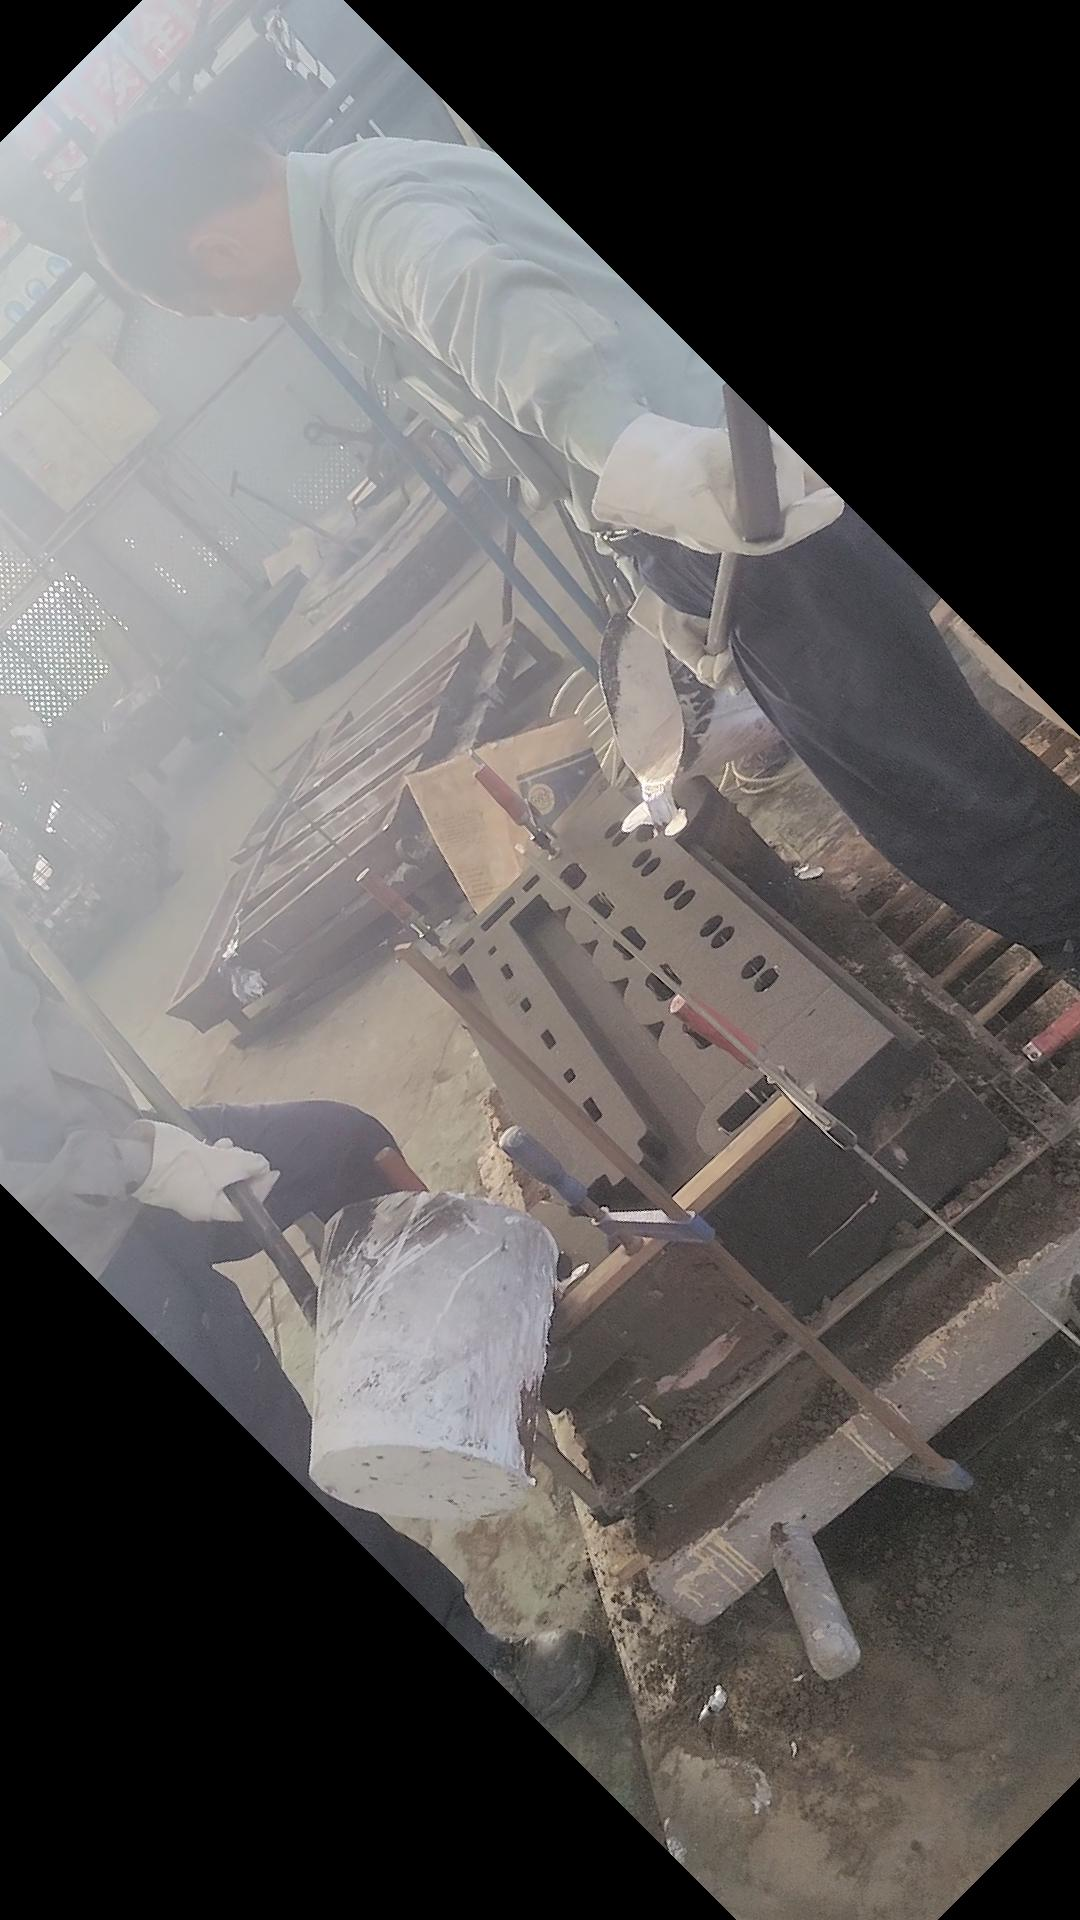pouring hole: (522, 1255, 576, 1302), (634, 799, 679, 843)
